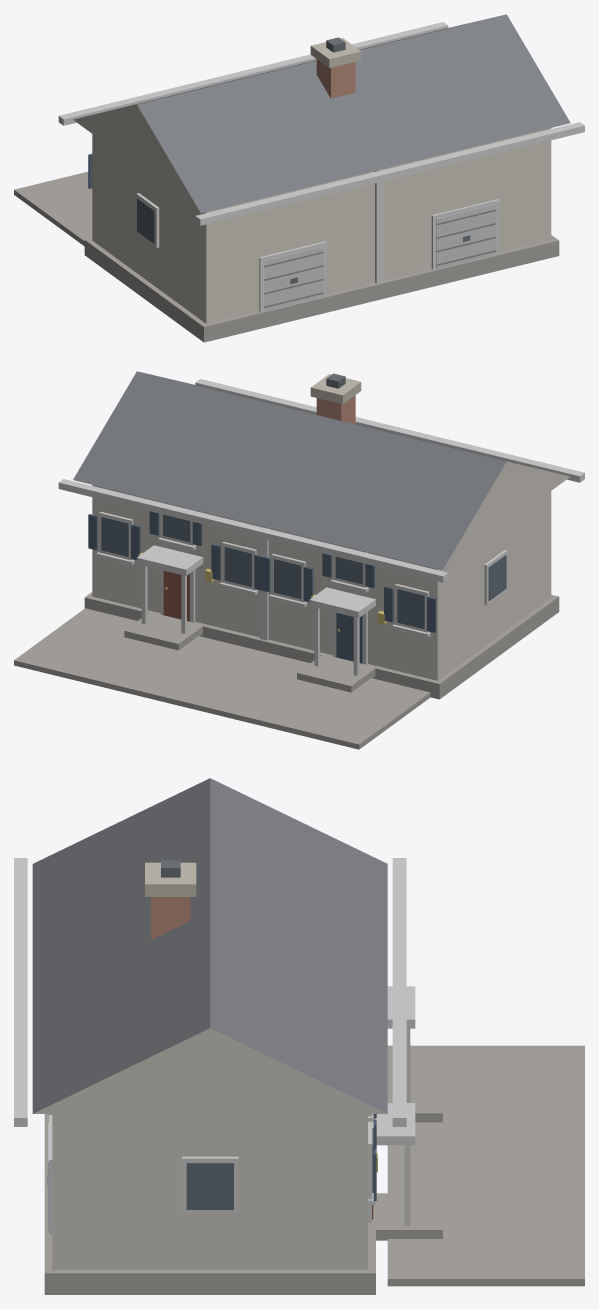
File: duplex_mirror.glb
The picture shows the model from 3 angles, top to bottom: view 1: azimuth 30°, elevation 25°; view 2: azimuth 150°, elevation 25°; view 3: azimuth 270°, elevation 25°; orthographic projection. The views are drawn at different scales.
Visible parts, largest first — view 1: Mesh; view 2: Mesh; view 3: Mesh.
Part boxes in pixels (x1=…): Mesh: x1=14, y1=14, x2=584, y2=342; Mesh: x1=14, y1=371, x2=584, y2=749; Mesh: x1=14, y1=778, x2=584, y2=1294.
Bounding box in the file's own units: 15.6 × 8.7 × 14.47.
